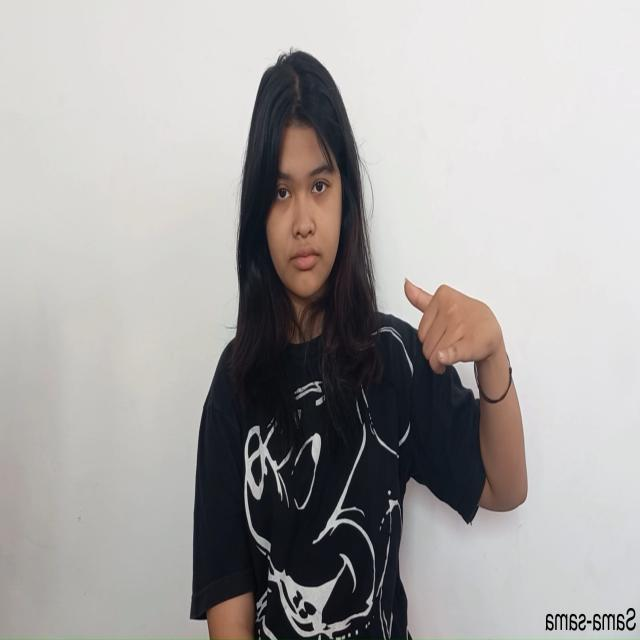Sama-sama -BISINDO-: (402, 274, 505, 379)
